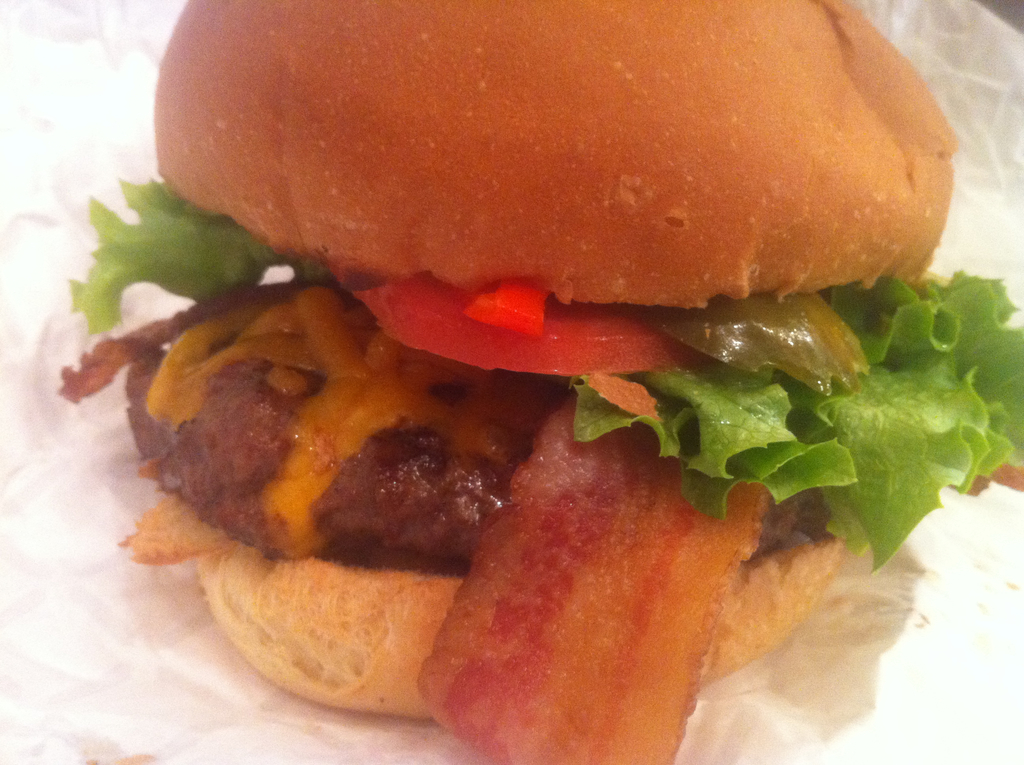Hamburger: (63, 0, 1023, 764)
